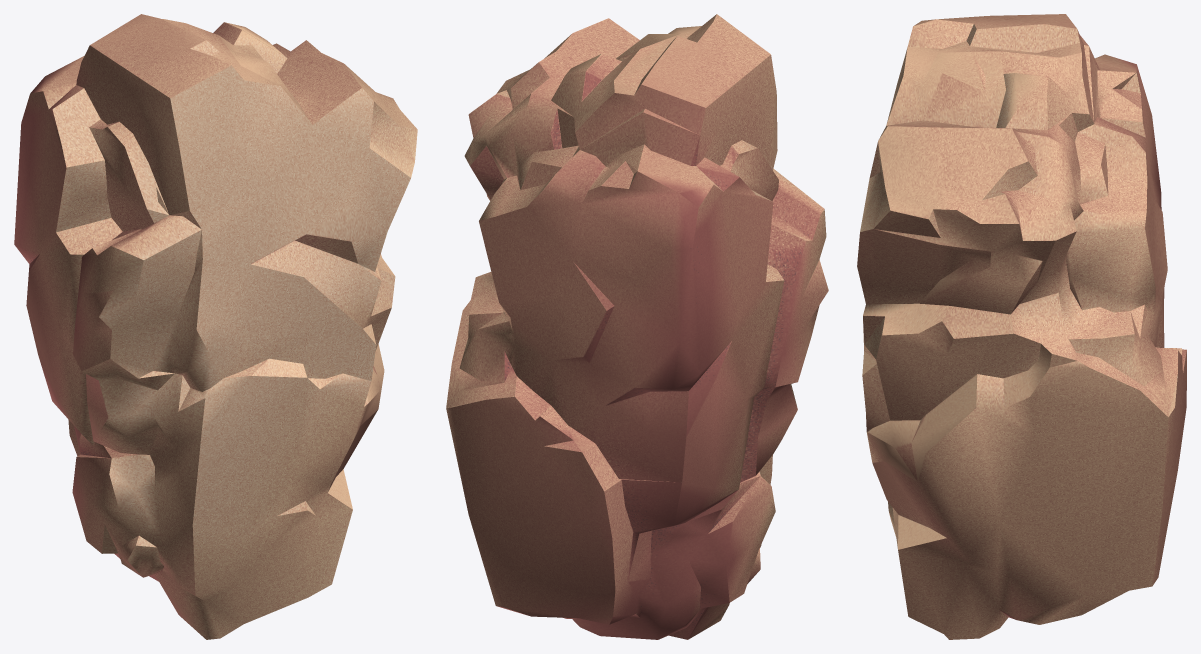
The model's file is Rock-01c.fbx.
3 views of the same model, side by side, from view 1: azimuth 30°, elevation 25°; view 2: azimuth 150°, elevation 25°; view 3: azimuth 270°, elevation 25° (orthographic). The views are drawn at different scales.
Parts seen in each view (by area): view 1: Rock_01_Low_LOD0; view 2: Rock_01_Low_LOD0; view 3: Rock_01_Low_LOD0.
Boxes of the visible parts, <box> form: Rock_01_Low_LOD0: <box>14,14,417,639</box>; Rock_01_Low_LOD0: <box>446,14,828,639</box>; Rock_01_Low_LOD0: <box>857,14,1186,639</box>.
Bounding box in the file's own units: 606 × 1089 × 558.
Materials: 1 (1 with a texture image).
